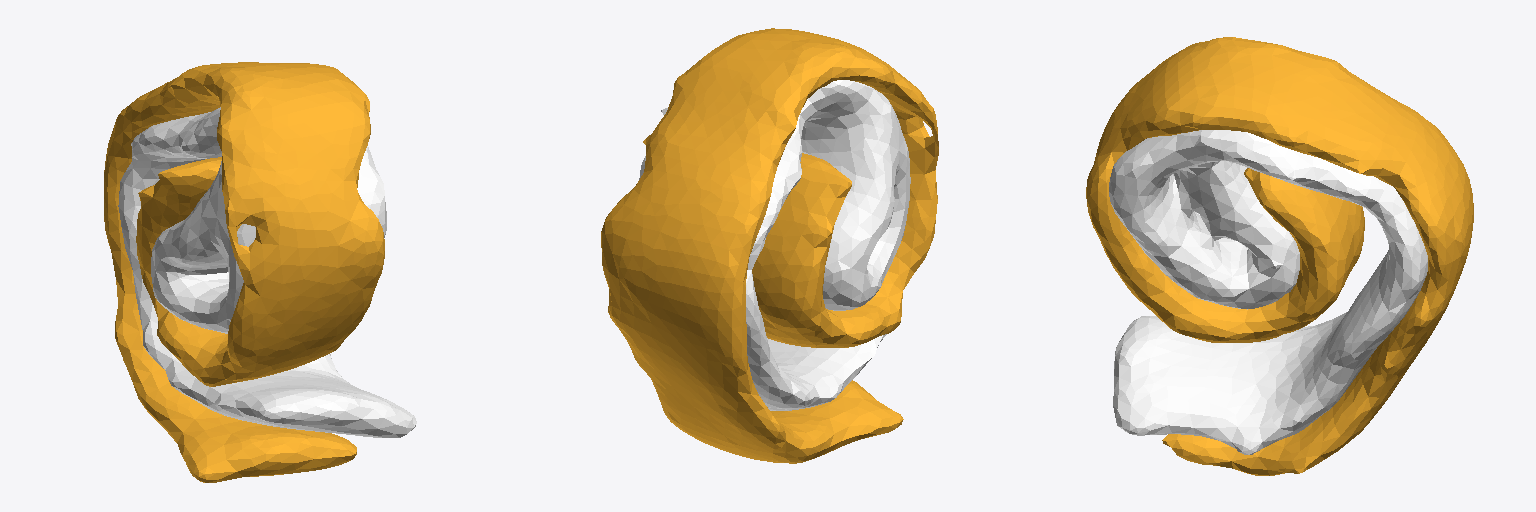
Rendered from cake2.obj.
The picture shows the model from 3 angles: view 1: azimuth 30°, elevation 25°; view 2: azimuth 150°, elevation 25°; view 3: azimuth 270°, elevation 25°; orthographic projection.
Size of the model in its own units: 0.1724 by 0.3253 by 0.288.